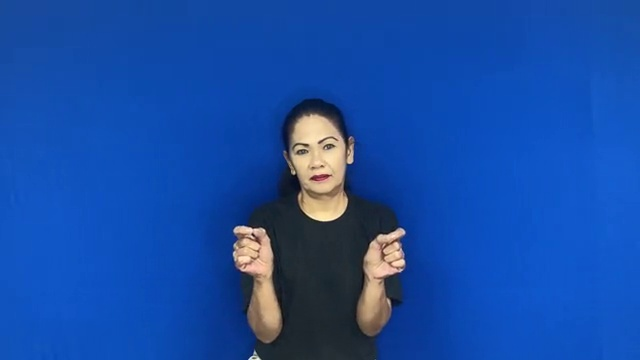crab: (224, 218, 420, 286)
